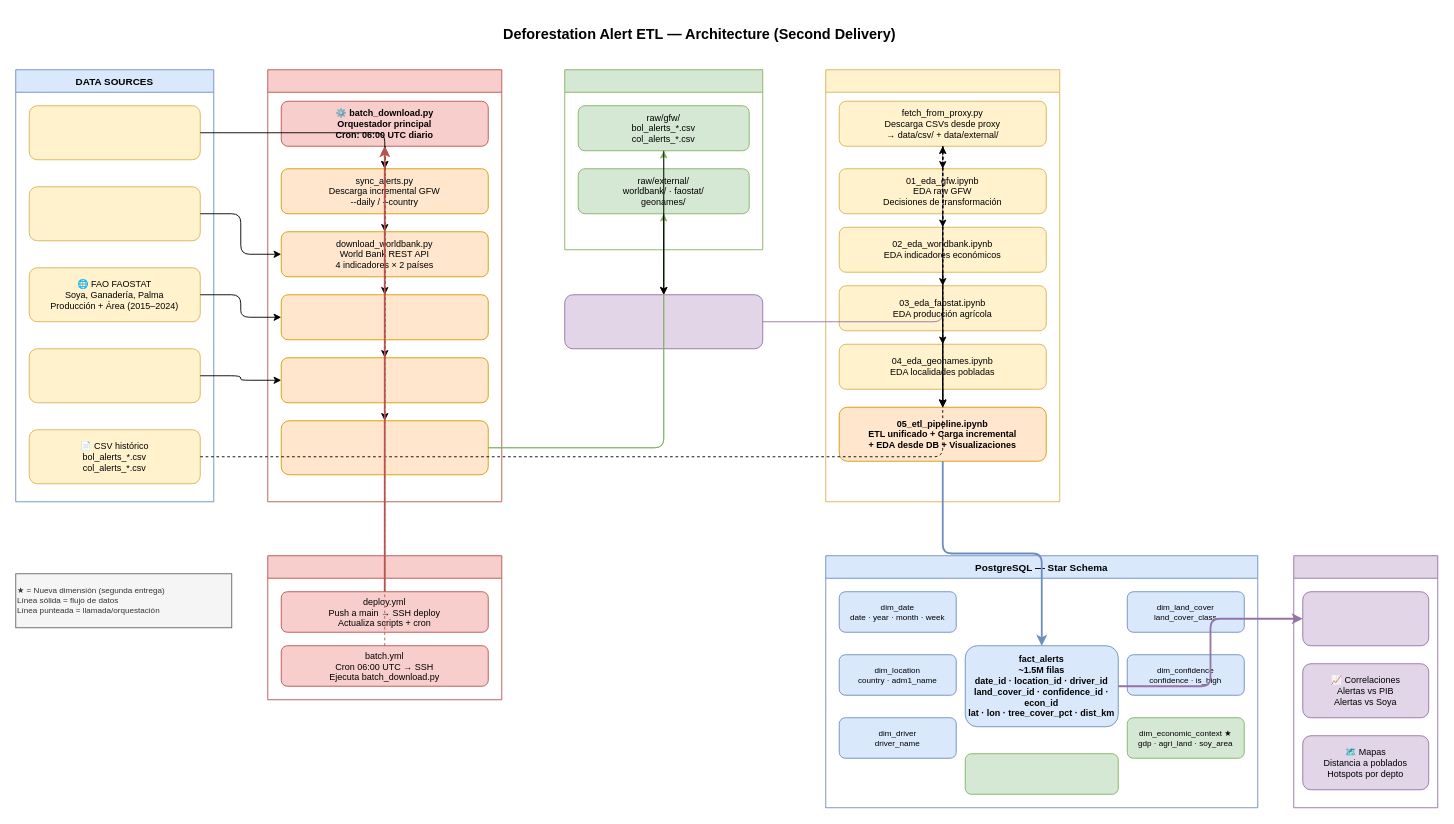
Image size: 1454x824. Some labels were removed from this diagram. Each missing label, with the box of its shape:
AWS LIGHTSAIL — Batch Server: (267, 69, 502, 502)
AWS S3 — Raw Storage: (564, 69, 763, 250)
dim_places ★ place_name · lat · lon · pop: (964, 753, 1118, 794)
download_faostat.py FAO Bulk CSV Américas 4 cultivos × 2 países: (280, 294, 488, 340)
download_geonames.py GeoNames BO.zip + CO.zip ~61k localidades pobladas: (280, 357, 488, 403)
GitHub Actions — CI/CD: (267, 555, 502, 700)
LOCAL — Jupyter Notebooks: (825, 69, 1060, 502)
upload_to_s3.py Sube CSVs al bucket S3 data/csv/ + data/external/: (280, 420, 488, 475)
Visualizations & Reports: (1293, 555, 1438, 808)
🌐 GeoNames Dump Localidades pobladas BOL + COL (~61k lugares): (28, 348, 200, 403)
🌐 GFW API gfw_integrated_alerts BOL + COL (2022–2026): (28, 105, 200, 160)
🌐 World Bank API PIB, Tierra agrícola Población rural (2015–2024): (28, 186, 200, 241)
📊 Dashboard matplotlib + seaborn data/results/*.png: (1302, 591, 1429, 646)
🔀 Reverse Proxy DATA_PROXY_URL (Lightsail → S3): (564, 294, 763, 349)
